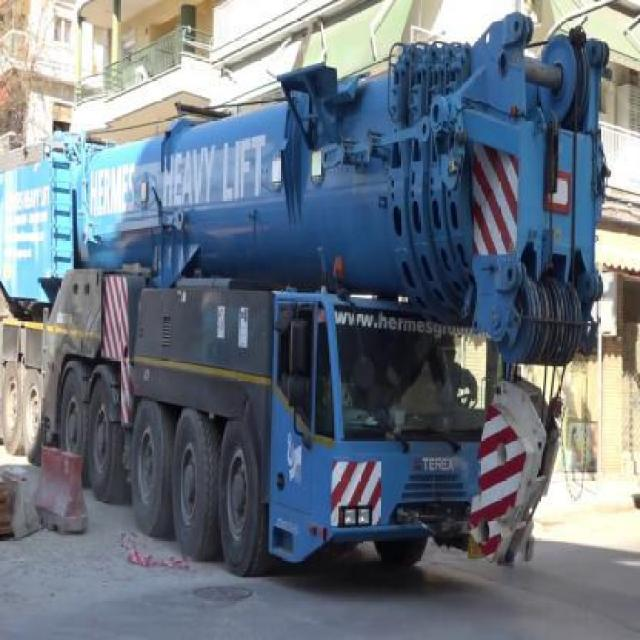Mobile Crane: (5, 10, 603, 568)
